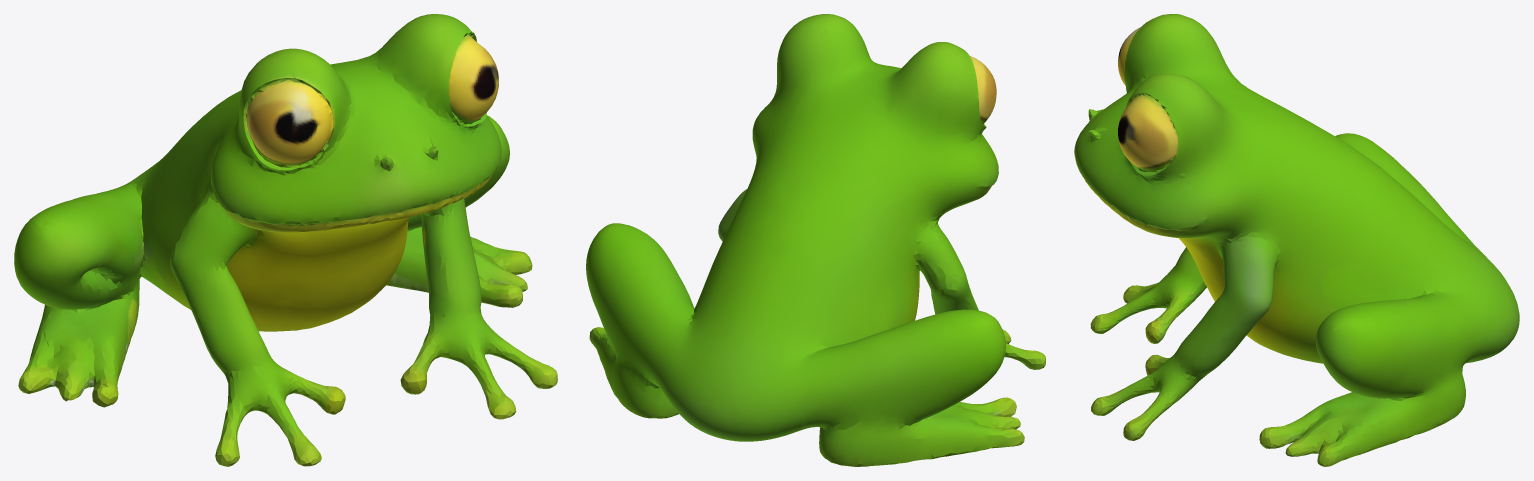
Rendered from ToxicFrog.glb.
The picture shows the model from 3 angles, left to right: view 1: azimuth 30°, elevation 25°; view 2: azimuth 150°, elevation 25°; view 3: azimuth 270°, elevation 25°; orthographic projection. The views are drawn at different scales.
Visible parts, largest first — view 1: ToxicFrog; view 2: ToxicFrog; view 3: ToxicFrog.
Part boxes in pixels (box(x1,y1,x2,y2)): ToxicFrog: box(14, 14, 557, 466); ToxicFrog: box(586, 14, 1045, 466); ToxicFrog: box(1074, 14, 1519, 466).
Size of the model in its own units: 1.9 by 1.33 by 1.65.
Materials: 1 (1 with a texture image).
